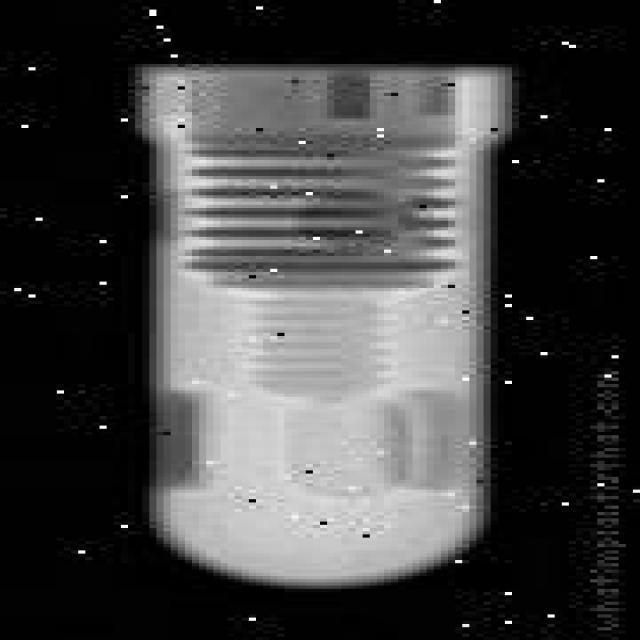Root canal obturation: (131, 67, 519, 593)
